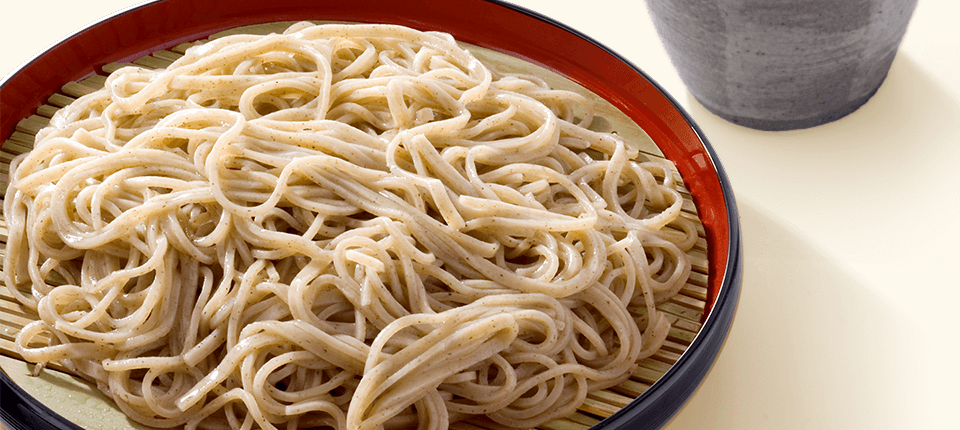Soba: (6, 32, 692, 406)
